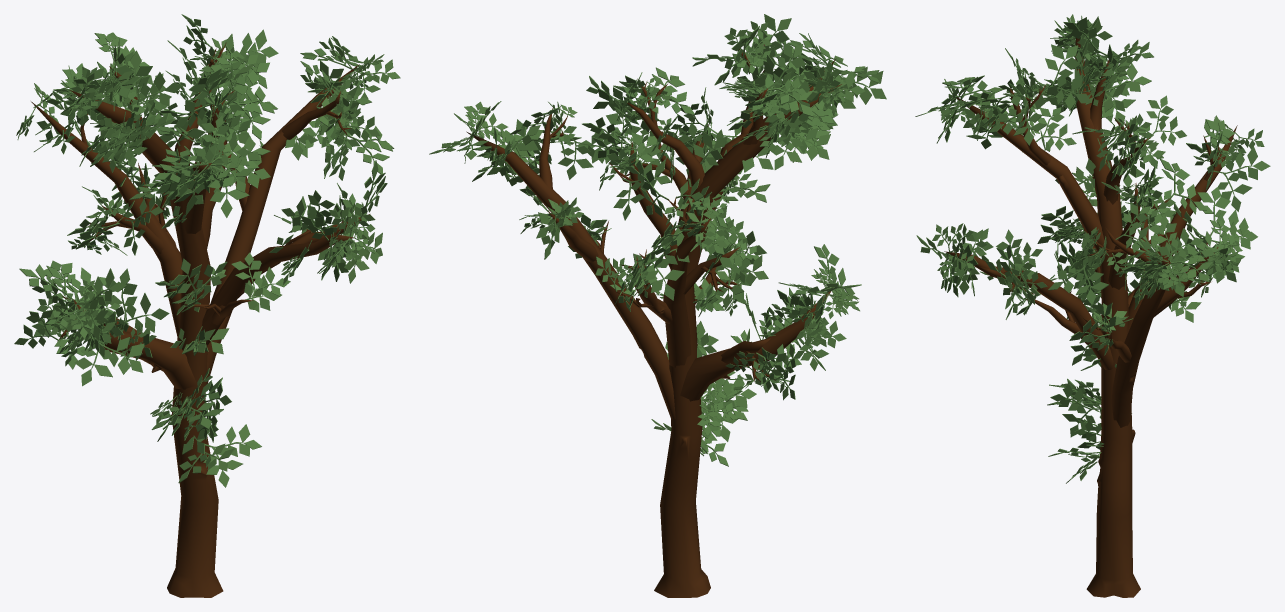
Rendered from SM_SmallTree_01.fbx.
3 views of the same model, side by side, from view 1: azimuth 30°, elevation 25°; view 2: azimuth 150°, elevation 25°; view 3: azimuth 270°, elevation 25° (orthographic). The views are drawn at different scales.
Parts seen in each view (by area): view 1: SM_SmallTree_01; view 2: SM_SmallTree_01; view 3: SM_SmallTree_01.
Boxes of the visible parts, x1,y1,x2,y2 form: SM_SmallTree_01: [14, 14, 400, 597]; SM_SmallTree_01: [429, 14, 886, 597]; SM_SmallTree_01: [915, 14, 1270, 597].
Size of what is drawn, in the model's own units: 3.24 by 4.56 by 2.76.
